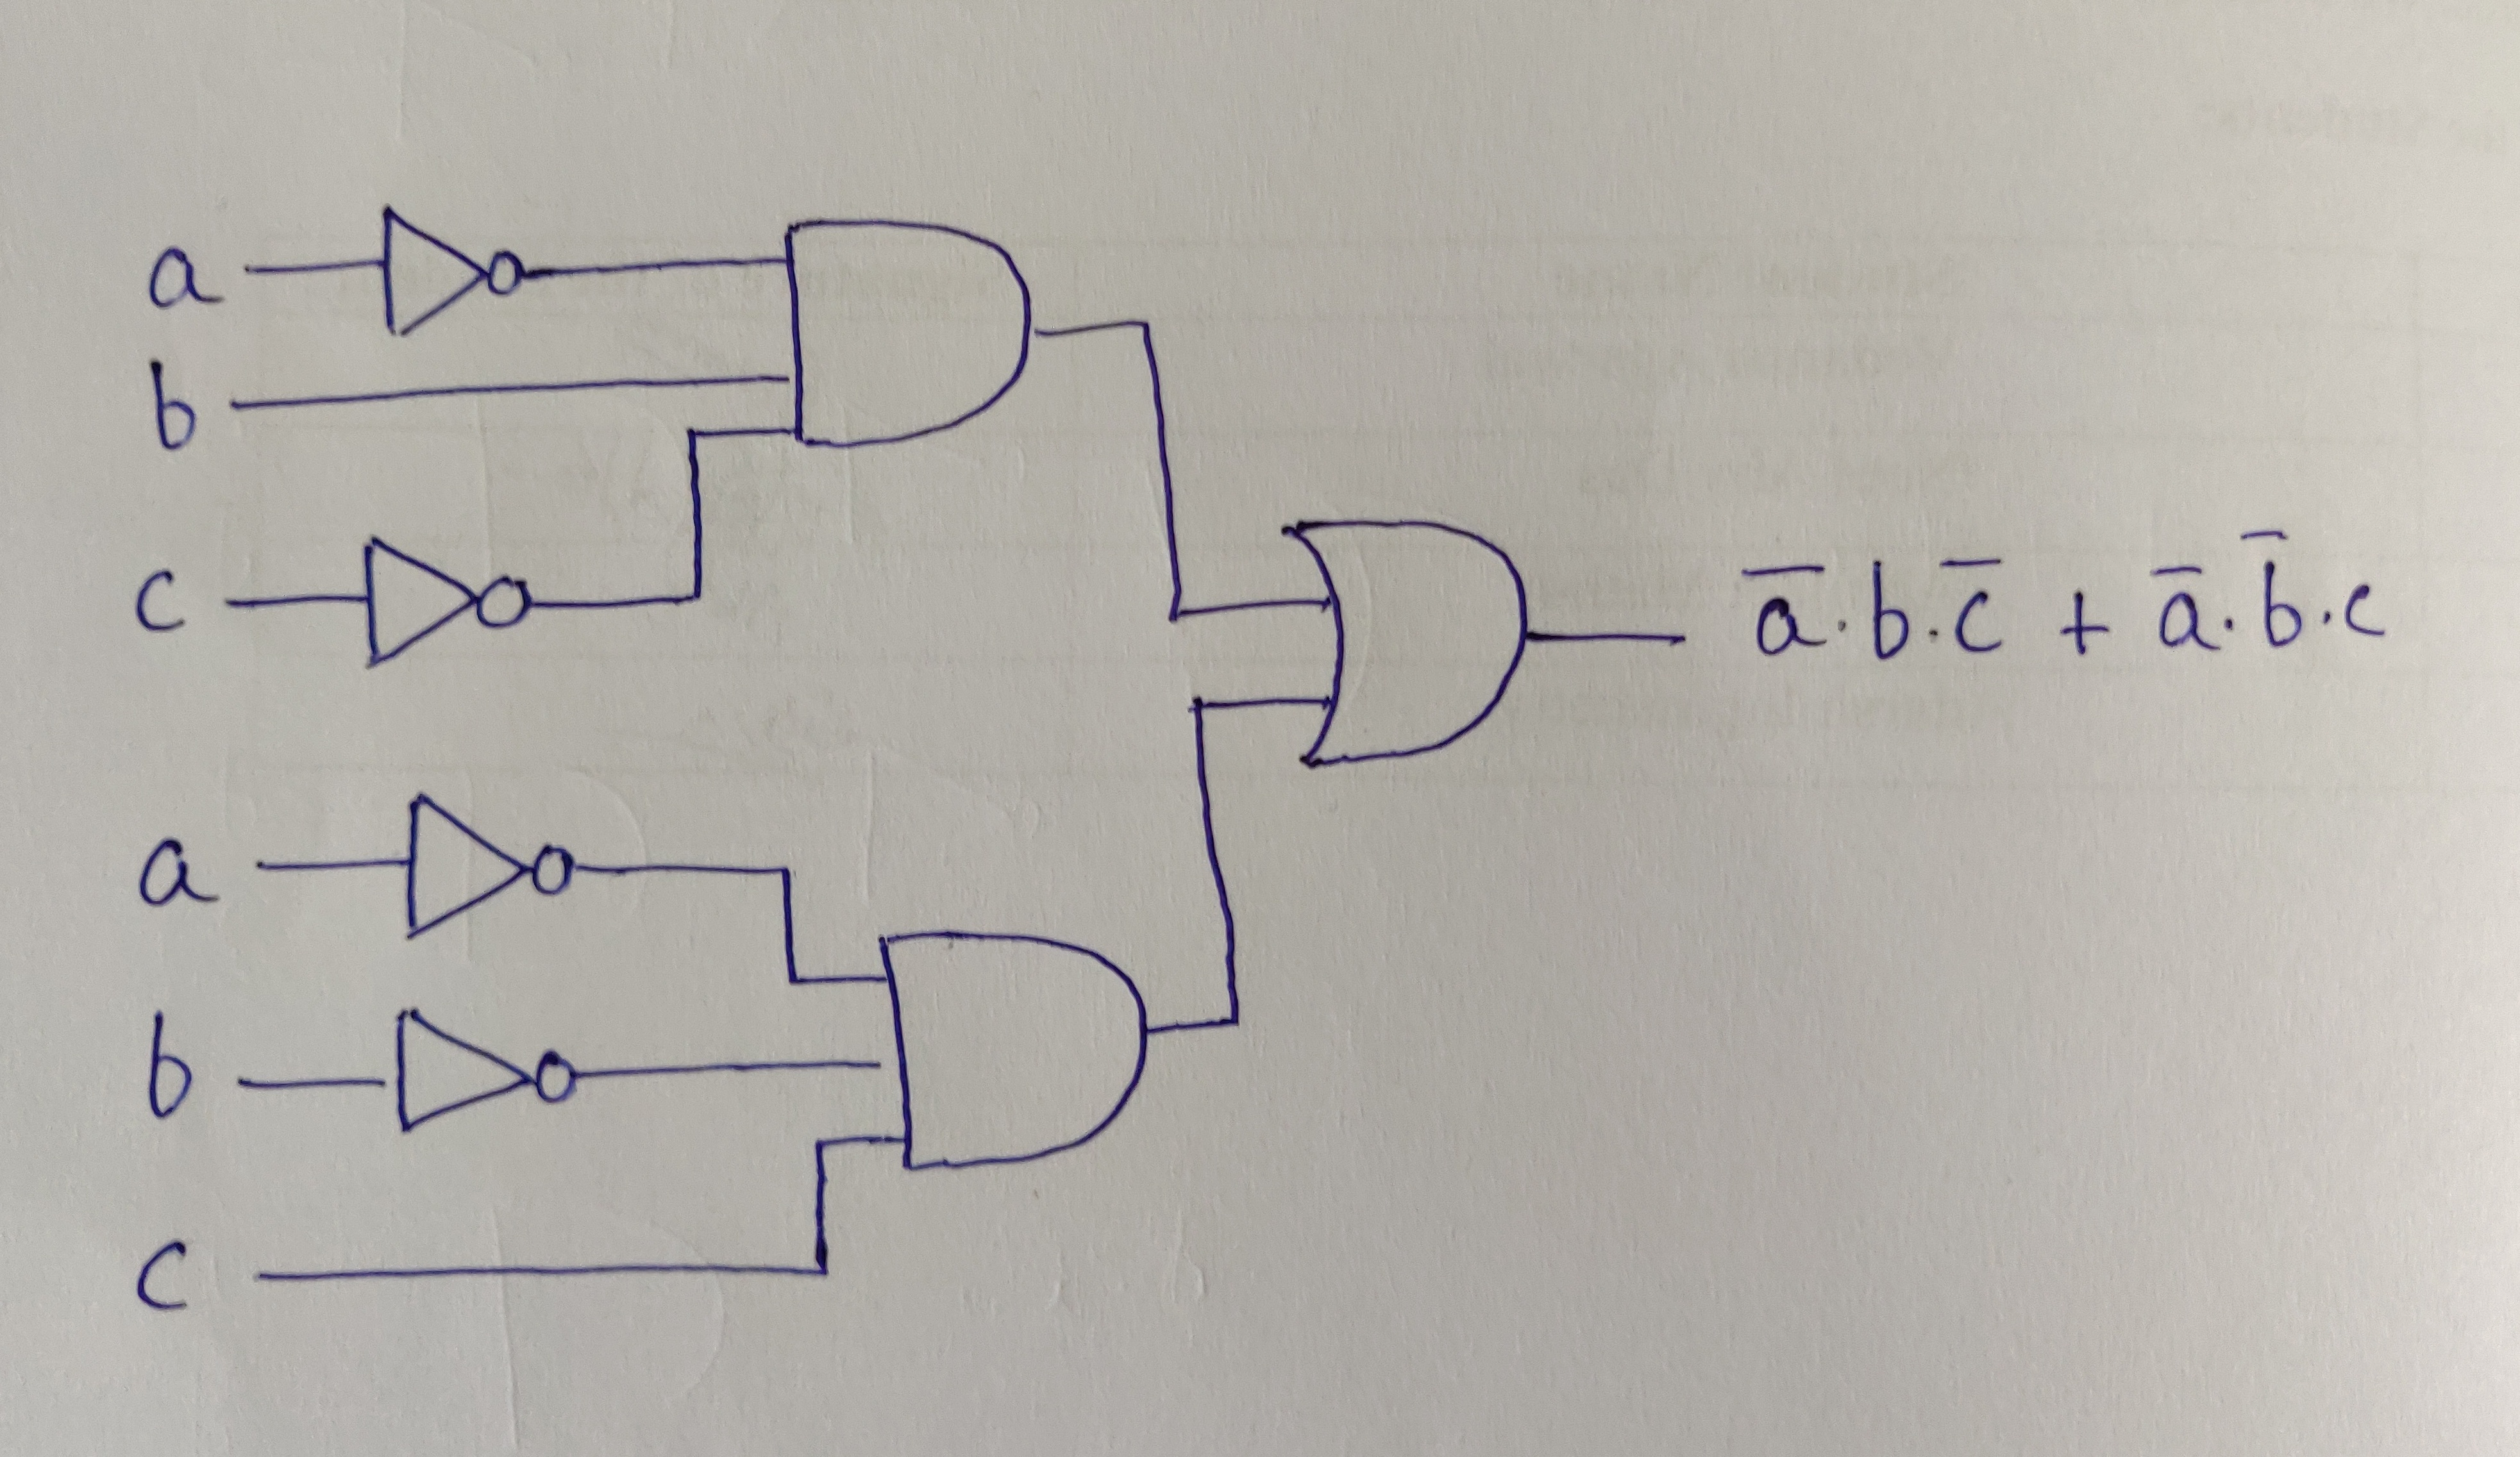and: (865, 905, 1181, 1211), (744, 194, 1074, 479)
not: (316, 463, 557, 716), (335, 179, 543, 368), (380, 997, 600, 1164), (383, 781, 584, 961)
or: (1254, 472, 1587, 796)
